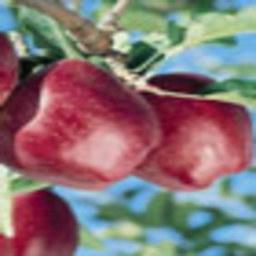apple: (2, 59, 162, 191), (128, 71, 252, 190)
